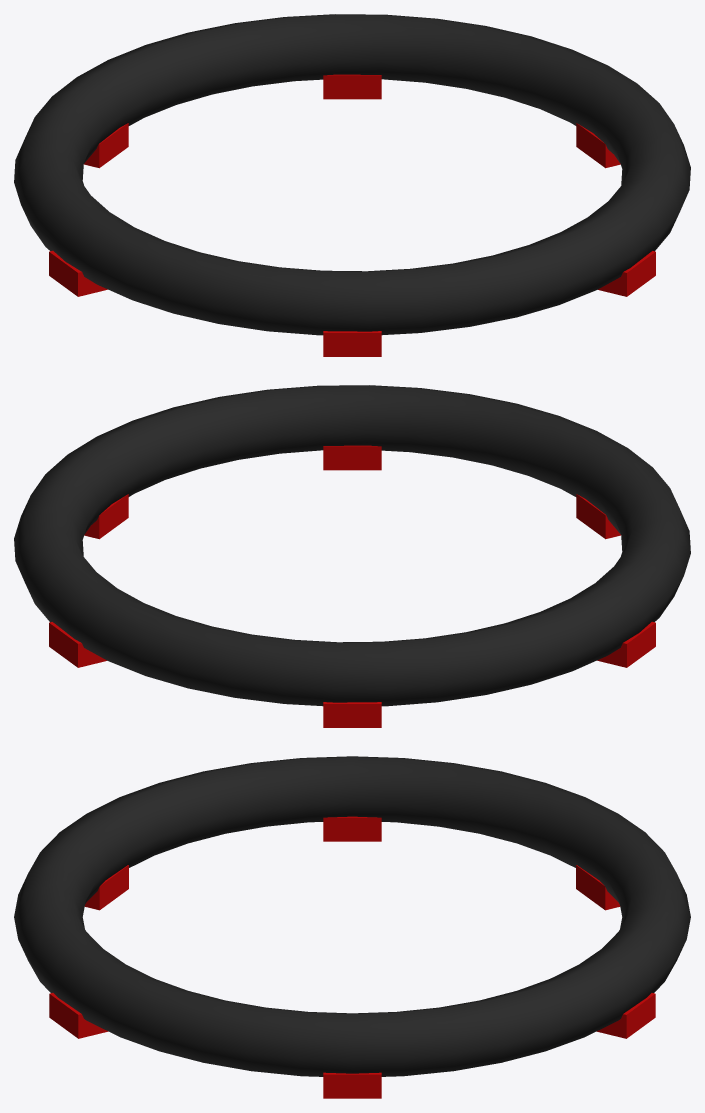
Rendered from boss_nest_ring.obj.
3 views of the same model, one above another, from view 1: azimuth 30°, elevation 25°; view 2: azimuth 150°, elevation 25°; view 3: azimuth 270°, elevation 25° (orthographic).
Parts seen in each view (by area): view 1: ring, lamp; view 2: ring, lamp; view 3: ring, lamp.
Boxes of the visible parts, x1,y1,x2,y2 form: ring: [14, 14, 690, 335]; lamp: [49, 74, 655, 356]; ring: [14, 385, 690, 706]; lamp: [49, 445, 655, 727]; ring: [14, 756, 690, 1076]; lamp: [49, 816, 655, 1098].
Bounding box in the file's own units: 2.56 × 0.3 × 2.56.
